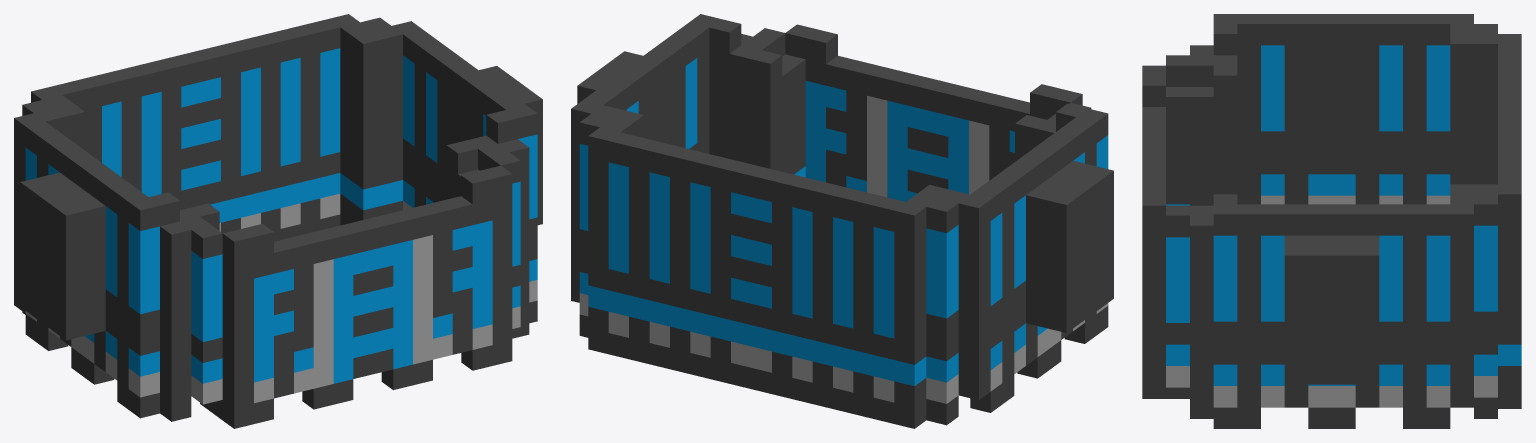
3 views of the same model, side by side, from view 1: azimuth 30°, elevation 25°; view 2: azimuth 150°, elevation 25°; view 3: azimuth 270°, elevation 25° (orthographic). The views are drawn at different scales.
Visible parts, largest first — view 1: 43; view 2: 43; view 3: 43.
Part boxes in pixels (left/top/right/bottom): 43: left=14, top=14, right=542, bottom=428; 43: left=571, top=14, right=1113, bottom=428; 43: left=1142, top=14, right=1521, bottom=428.
Size of the model in its own units: 2.4 by 1 by 1.6.
1 material, 1 textured.
